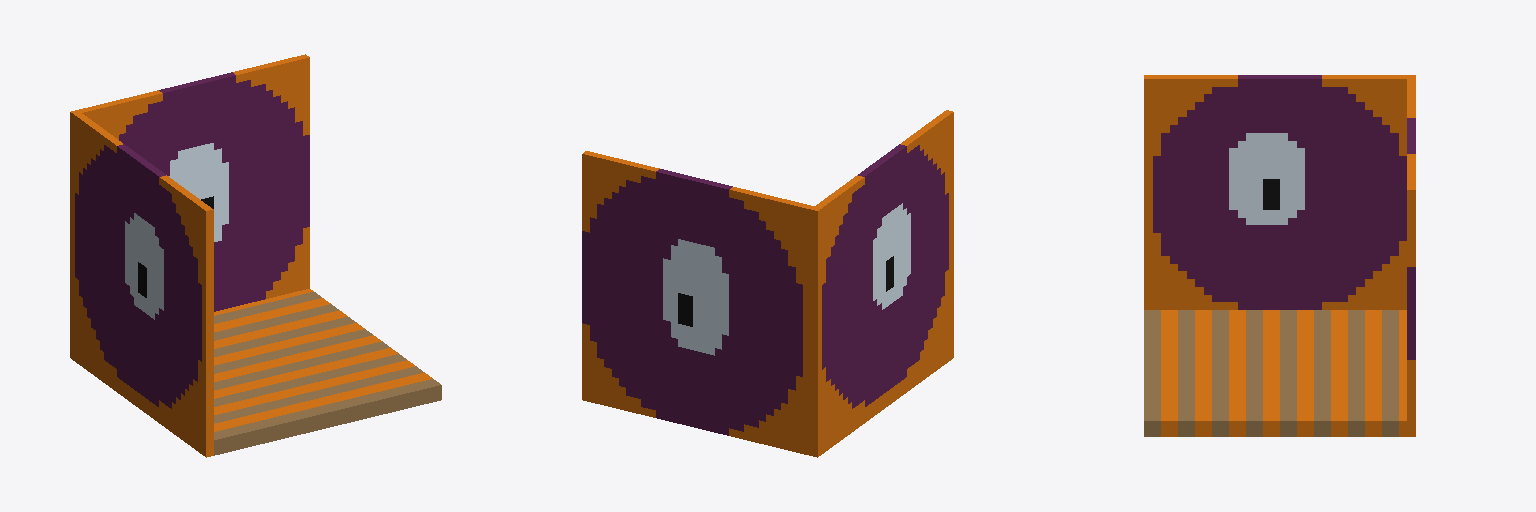
The picture shows the model from 3 angles: view 1: azimuth 30°, elevation 25°; view 2: azimuth 150°, elevation 25°; view 3: azimuth 270°, elevation 25°; orthographic projection.
Visible parts, largest first — view 1: Model; view 2: Model; view 3: Model.
Part boxes in pixels (x1,y1,x2,y2): Model: (70, 54, 441, 457); Model: (582, 110, 953, 457); Model: (1144, 75, 1415, 436).
Size of the model in its own units: 32 by 32 by 32.
1 materials, 1 textured.